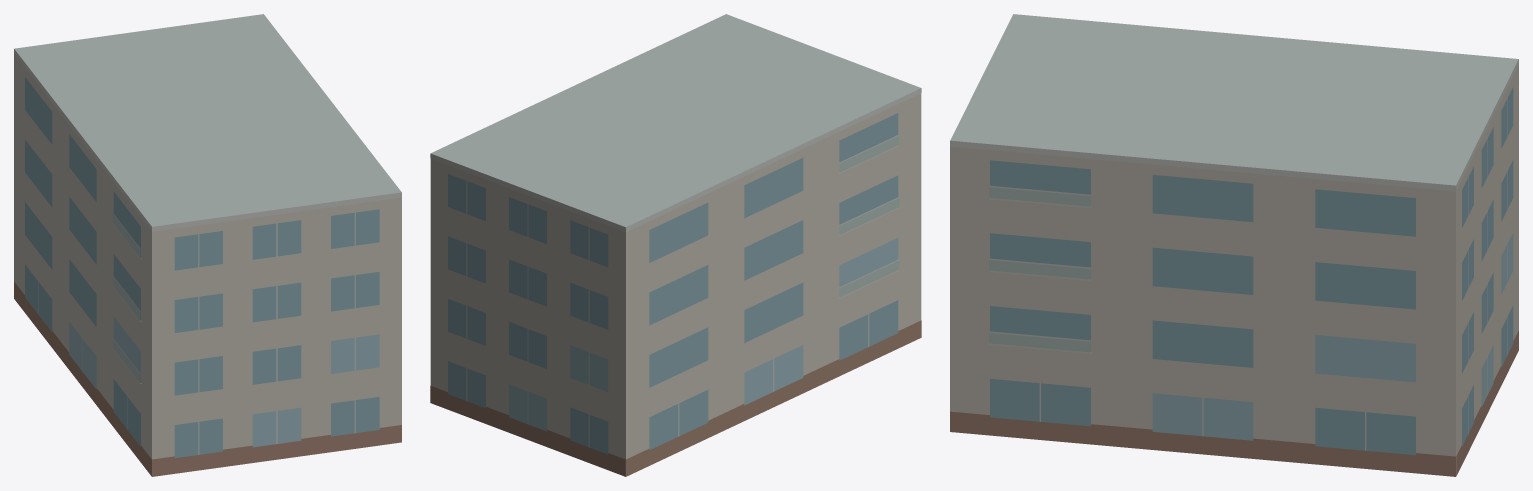
The model's file is residential-ea8b7603-0a42-4afa-a98a-4d228bf71888.glb.
3 views of the same model, side by side, from view 1: azimuth 30°, elevation 25°; view 2: azimuth 150°, elevation 25°; view 3: azimuth 270°, elevation 25° (orthographic). The views are drawn at different scales.
Parts seen in each view (by area): view 1: residential-ea8b7603-0a42-4afa-a98a-4d228bf71888.tmp; view 2: residential-ea8b7603-0a42-4afa-a98a-4d228bf71888.tmp; view 3: residential-ea8b7603-0a42-4afa-a98a-4d228bf71888.tmp.
Part boxes in pixels (x1=…): residential-ea8b7603-0a42-4afa-a98a-4d228bf71888.tmp: x1=14, y1=14, x2=401, y2=476; residential-ea8b7603-0a42-4afa-a98a-4d228bf71888.tmp: x1=430, y1=14, x2=921, y2=476; residential-ea8b7603-0a42-4afa-a98a-4d228bf71888.tmp: x1=950, y1=14, x2=1518, y2=476.
Bounding box in the file's own units: 15.42 × 12.2 × 21.6.
